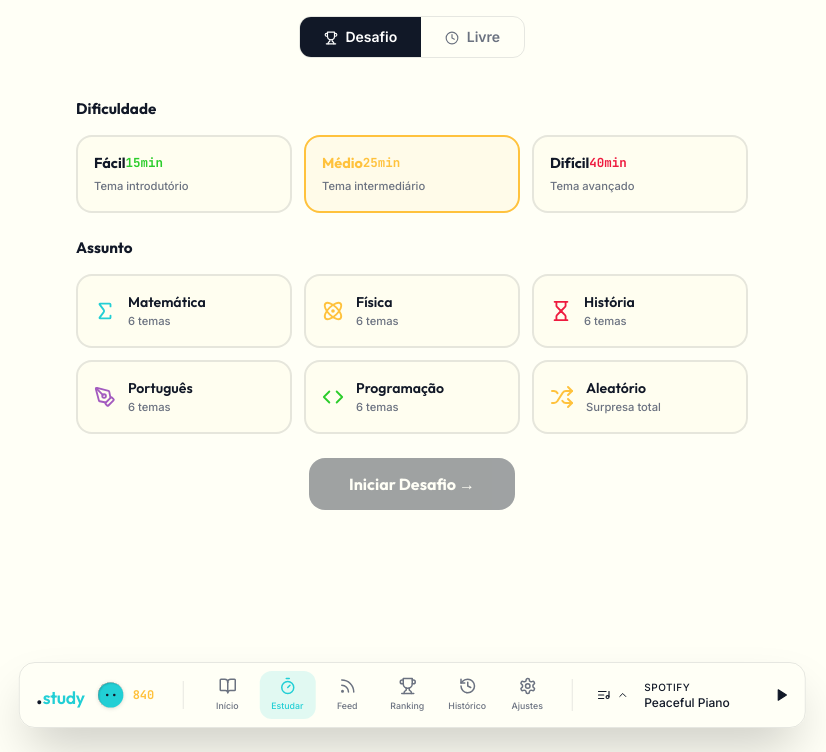
Test: Estudar (desafio) › ciclo recusado pelo serviço mostra o erro e volta ao setup
Click the button "Fácil 15min Tema introdutório" at (184, 174), box x1=76 y1=135 x2=292 y2=213
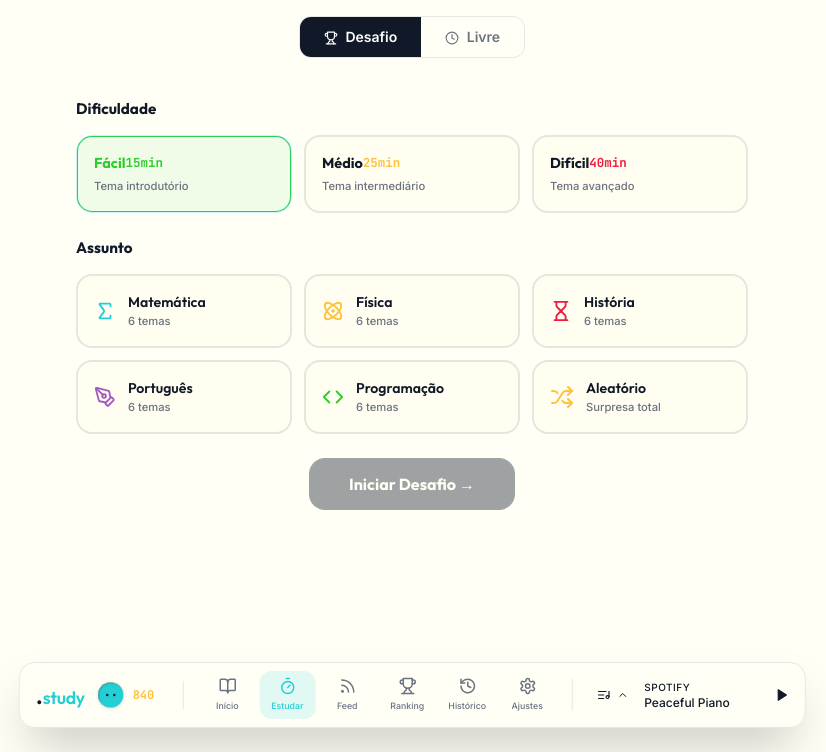
Click the button "Matemática 6 temas" at (184, 311), box x1=76 y1=274 x2=292 y2=348
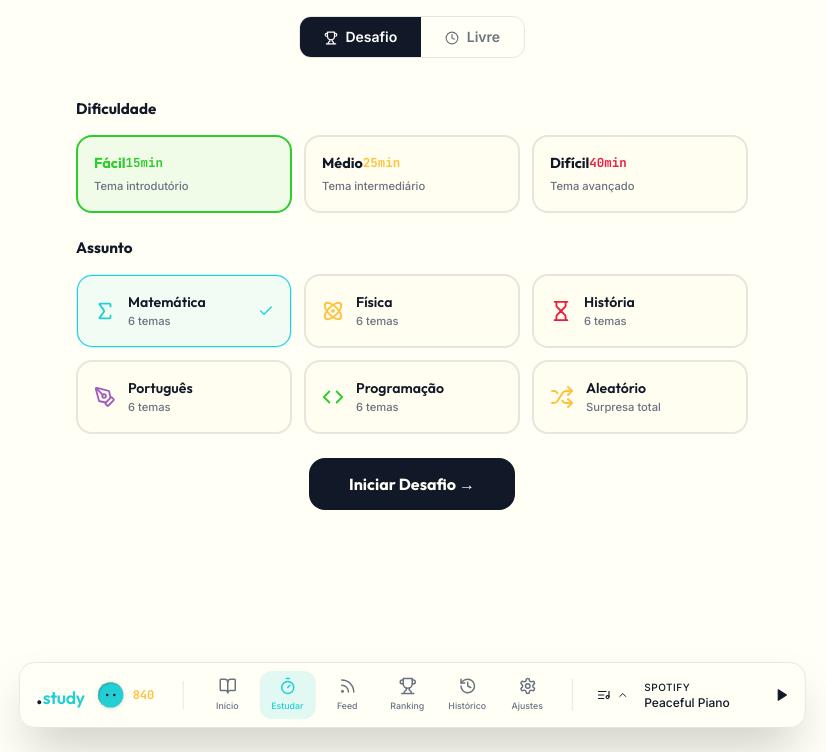
Click the button "Iniciar Desafio →" at (412, 484), box x1=309 y1=458 x2=515 y2=510
Wait 900500 ms
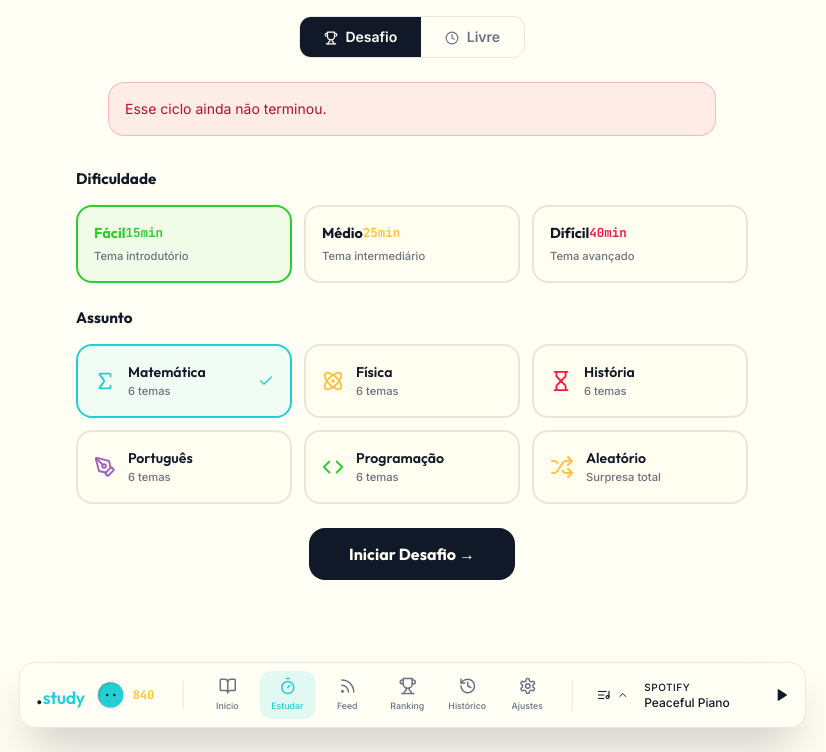
expect the button "Iniciar Desafio →" is shown: met, box x1=309 y1=528 x2=515 y2=580
expect the message shows "ainda não terminou": met, box x1=125 y1=100 x2=326 y2=117
